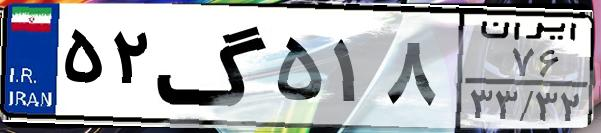1: (330, 28, 385, 110)
2: (110, 28, 156, 98), (560, 70, 590, 125)
3: (470, 70, 495, 125), (495, 70, 520, 125), (535, 70, 560, 125)
5: (270, 28, 330, 110), (57, 26, 110, 100)
6: (537, 27, 568, 80)
7: (508, 27, 537, 80)
8: (385, 28, 445, 110)
گ: (156, 12, 270, 120)
